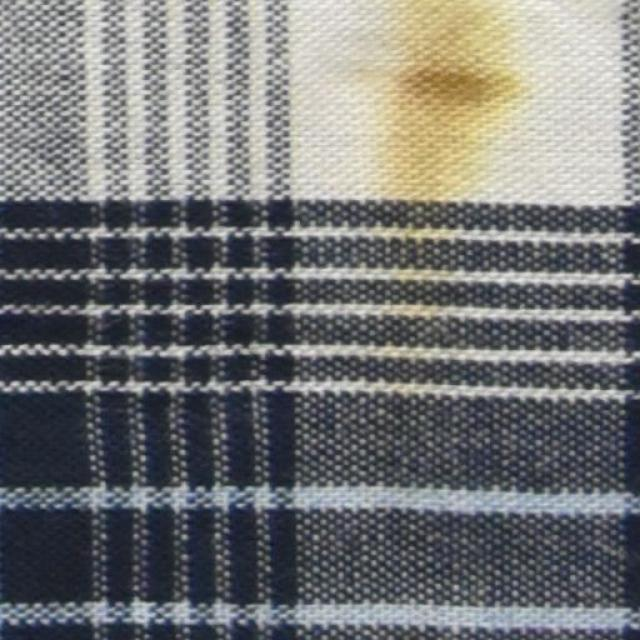Stain: (365, 0, 529, 225)
